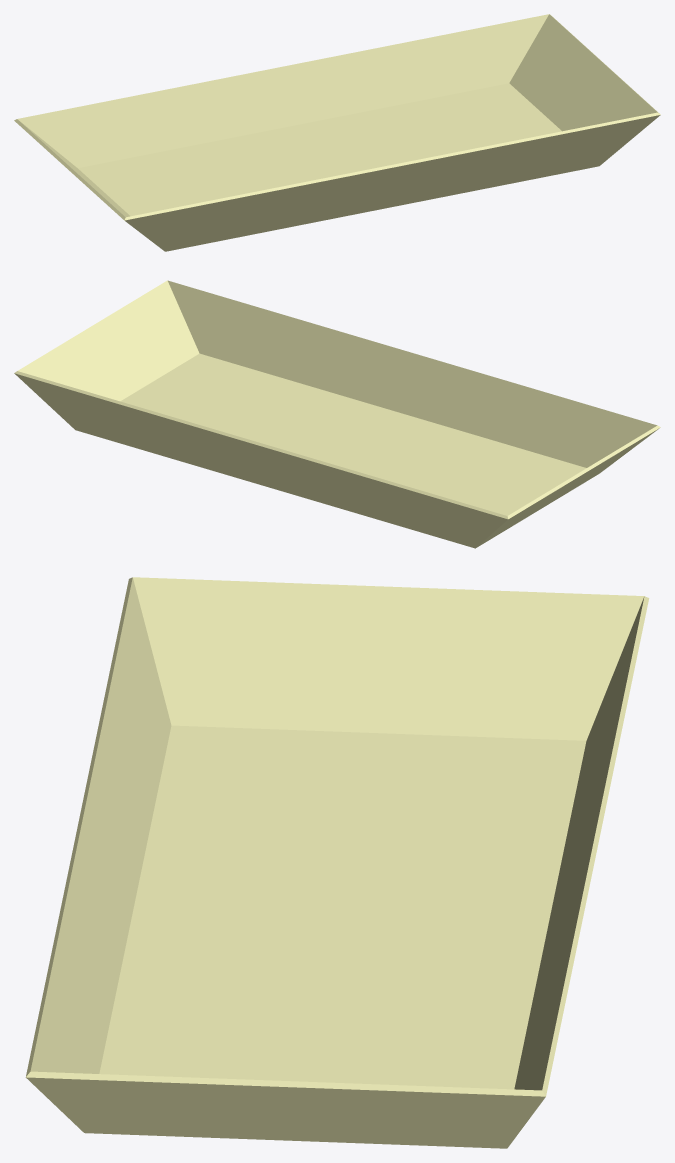
File: BasketTray.FBX
3 renders of one model, top to bottom at view 1: azimuth 30°, elevation 25°; view 2: azimuth 150°, elevation 25°; view 3: azimuth 270°, elevation 25°, orthographic. The views are drawn at different scales.
Visible parts, largest first — view 1: Basket; view 2: Basket; view 3: Basket.
Boxes of the visible parts, x1,y1,x2,y2 form: Basket: (14, 14, 660, 251); Basket: (14, 280, 660, 548); Basket: (25, 577, 649, 1148).
Size of the model in its own units: 3.92 by 0.3718 by 1.99.
